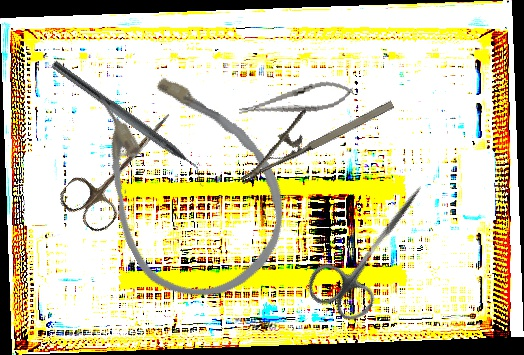Cannula: (60, 38, 312, 322)
Chopper: (42, 59, 215, 189)
Iris Scissors: (300, 164, 447, 331), (55, 93, 189, 238)
Needle Holder: (225, 74, 397, 185), (236, 76, 356, 125)
